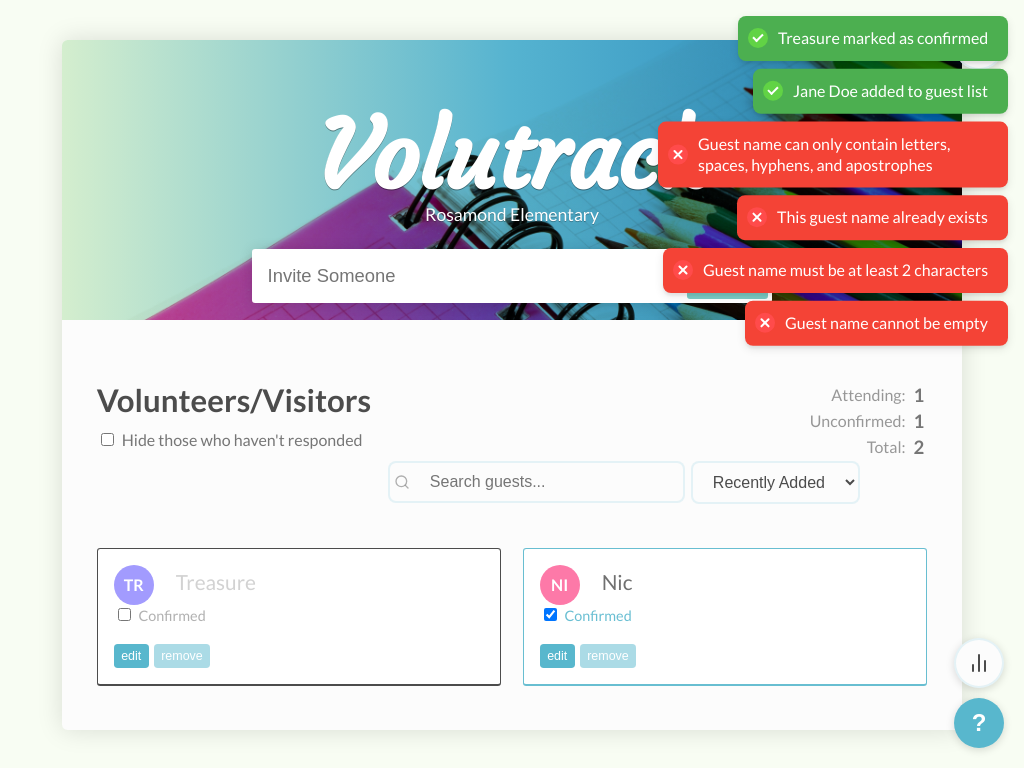
App Component › hides unconfirmed guests when checkbox is checked
Step 1. Click the checkbox labelled "Hide those who haven't responded" → (107, 439), box x1=101 y1=433 x2=114 y2=446
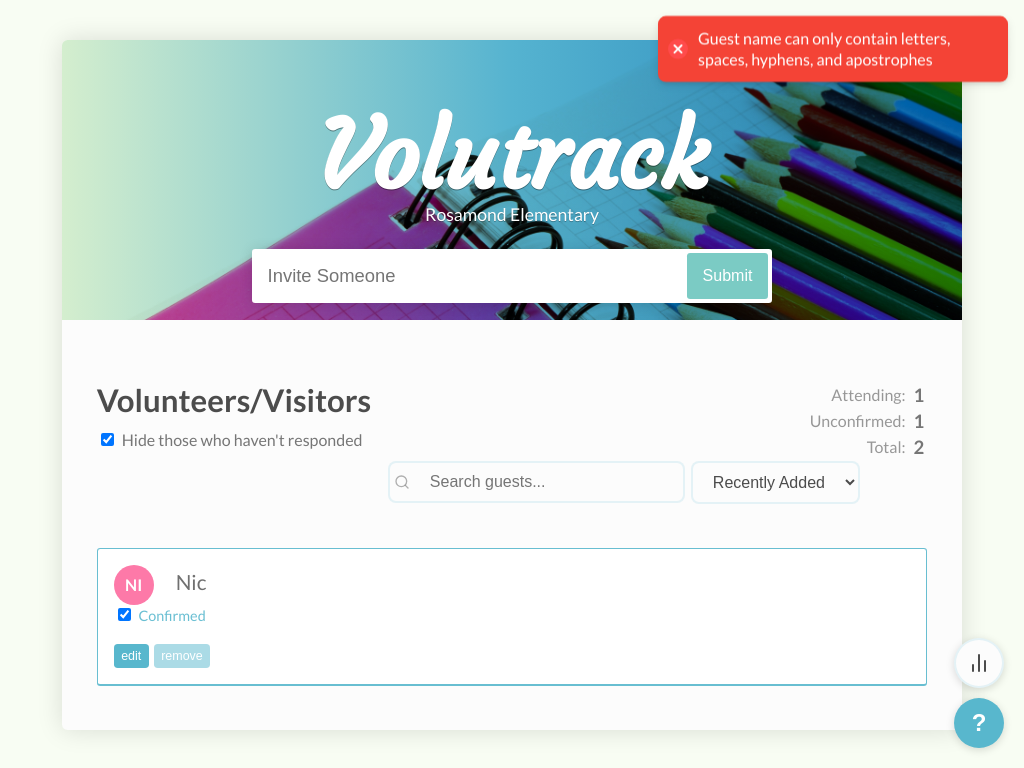
Expected: the text "Nic" is shown, x1=176 y1=569 x2=206 y2=594
Expected: the text "Treasure" is gone
